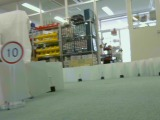speed_10: (1, 40, 25, 65)
